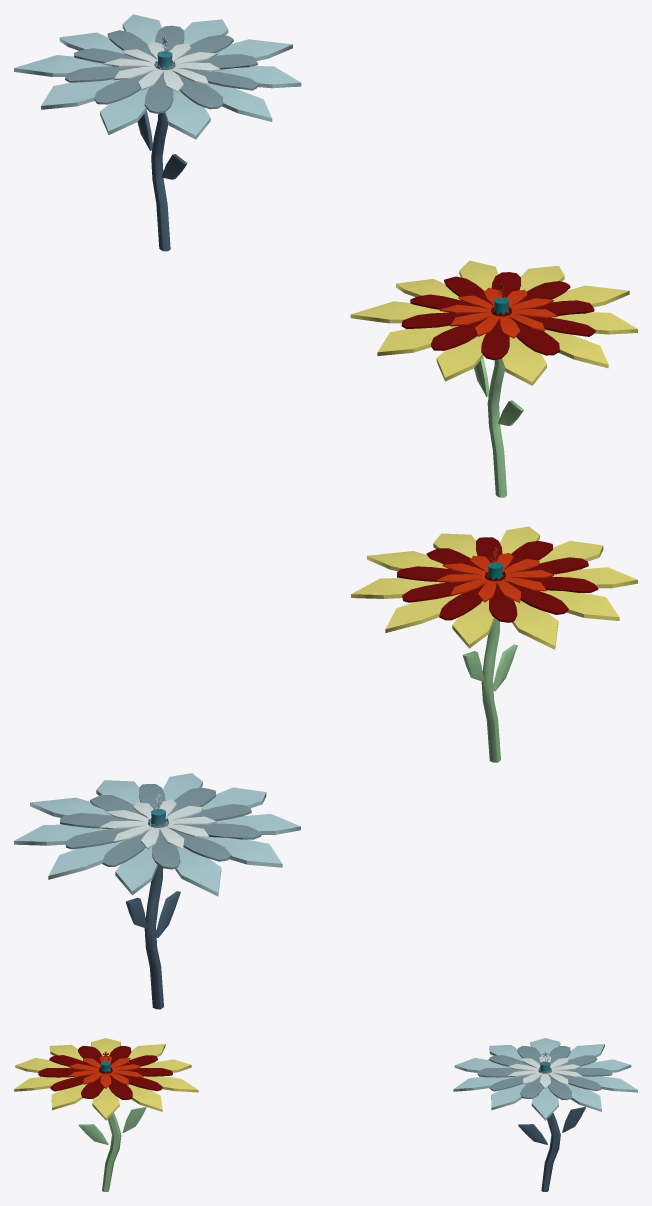
File: Planta_Ventilador_Aberta_Estações.fbx
3 views of the same model, one above another, from view 1: azimuth 30°, elevation 25°; view 2: azimuth 150°, elevation 25°; view 3: azimuth 270°, elevation 25° (orthographic). The views are drawn at different scales.
Parts seen in each view (by area): view 1: pCylinder8 (×2), pCylinder9 (×2), pCylinder10 (×2), pCube7 (×2); view 2: pCylinder8 (×2), pCylinder9 (×2), pCylinder10 (×2), pCube7 (×2); view 3: pCylinder8 (×2), pCylinder9 (×2), pCylinder10 (×2), pCube7 (×2), pCube9 (×2), pCube8 (×2).
Part boxes in pixels (left/top/right/bottom): pCylinder8 (×2): left=14, top=14, right=637, bottom=385; pCylinder9 (×2): left=65, top=25, right=595, bottom=360; pCylinder10 (×2): left=103, top=41, right=557, bottom=338; pCube7 (×2): left=151, top=112, right=506, bottom=497; pCylinder8 (×2): left=14, top=526, right=637, bottom=896; pCylinder9 (×2): left=60, top=537, right=598, bottom=869; pCylinder10 (×2): left=99, top=553, right=553, bottom=849; pCube7 (×2): left=144, top=618, right=500, bottom=1009; pCylinder8 (×2): left=14, top=1038, right=637, bottom=1120; pCylinder9 (×2): left=38, top=1045, right=612, bottom=1099; pCylinder10 (×2): left=68, top=1056, right=582, bottom=1088; pCube7 (×2): left=102, top=1113, right=560, bottom=1191; pCube9 (×2): left=78, top=1124, right=547, bottom=1144; pCube8 (×2): left=122, top=1106, right=585, bottom=1132.
Bounding box in the file's own units: 607 × 490 × 1992.
